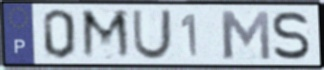0: (41, 7, 78, 62)
1: (180, 12, 199, 58)
M: (217, 9, 273, 62), (80, 7, 134, 61)
S: (270, 9, 312, 61)
U: (131, 8, 174, 62)
